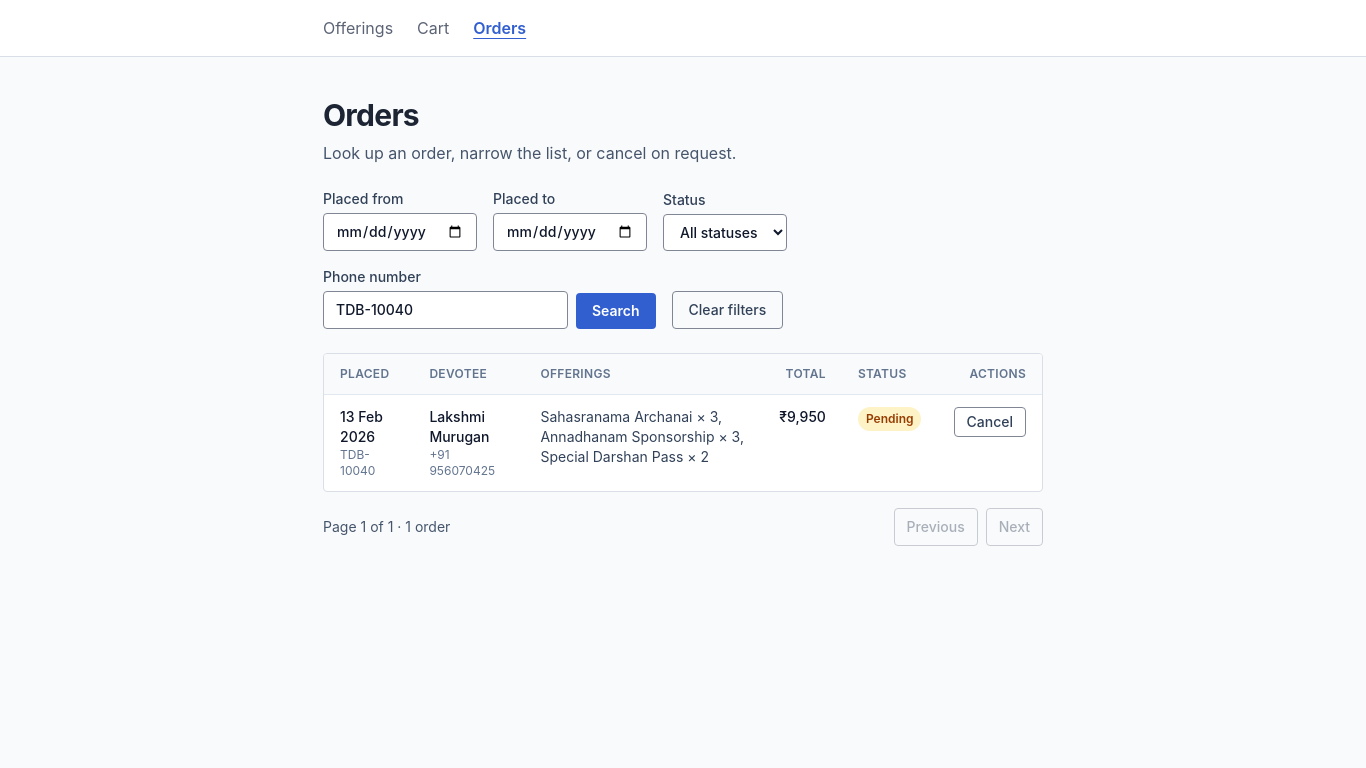
Test: Orders screen › reports a failed cancellation and leaves the order as it was
Click the button "Cancel". click: x=990, y=422
box: [954, 407, 1026, 437]
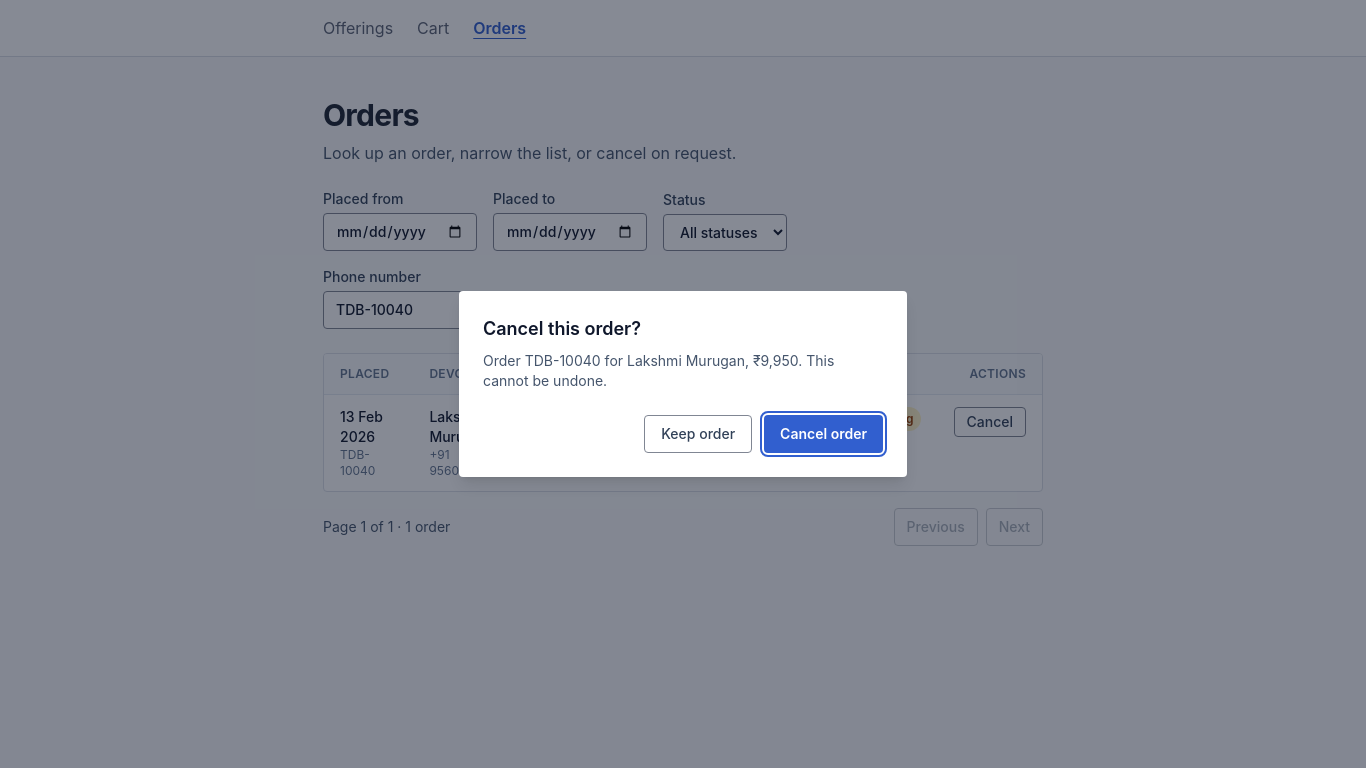
Click the button "Cancel order". click: x=824, y=434
box: [764, 415, 883, 453]
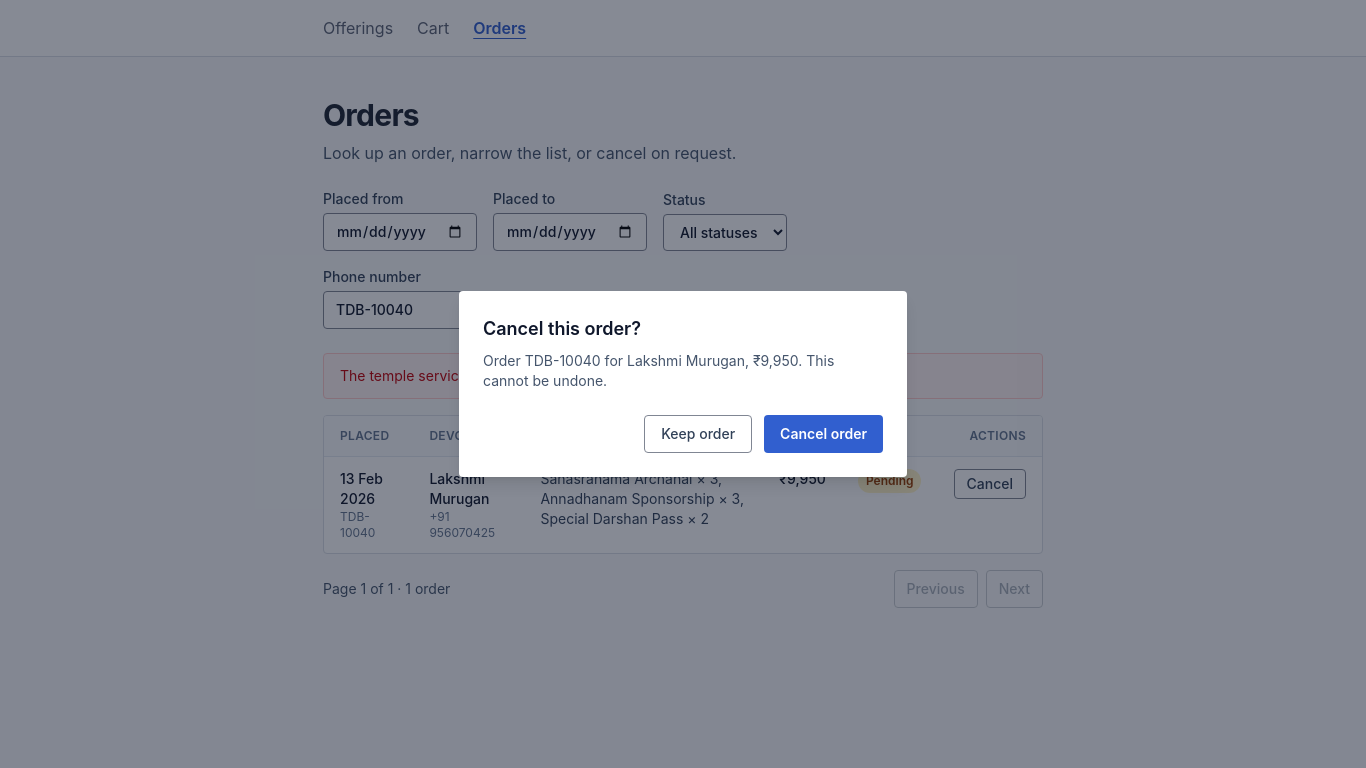
Now the message "The temple service is unreachable. Please try again." is shown, box [323, 353, 1043, 399]
